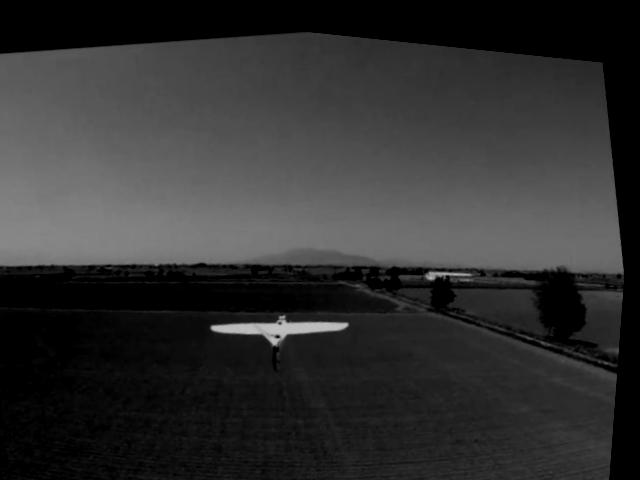hedef: (206, 284, 363, 381)
